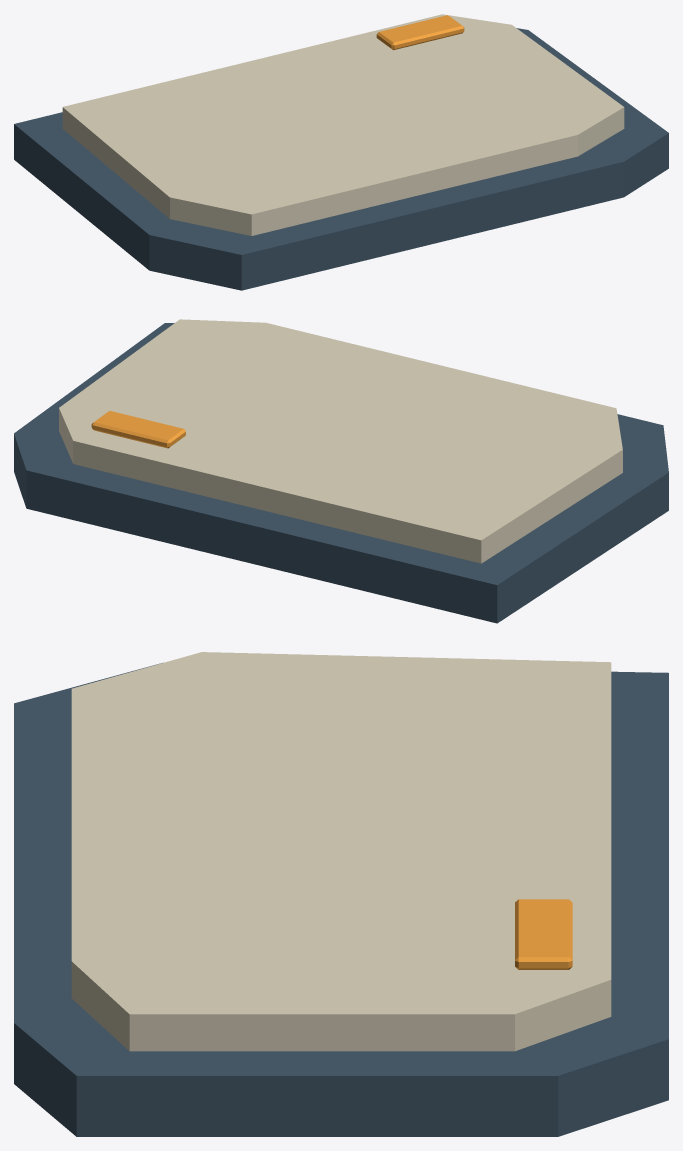
File: survey-panel-debris.glb
The picture shows the model from 3 angles, top to bottom: view 1: azimuth 30°, elevation 25°; view 2: azimuth 150°, elevation 25°; view 3: azimuth 270°, elevation 25°; orthographic projection. The views are drawn at different scales.
Parts seen in each view (by area): view 1: survey-panel-debris; view 2: survey-panel-debris; view 3: survey-panel-debris.
Boxes of the visible parts, left/top/right/bottom form: survey-panel-debris: left=14, top=14, right=668, bottom=290; survey-panel-debris: left=14, top=319, right=668, bottom=623; survey-panel-debris: left=14, top=652, right=668, bottom=1136.
Bounding box in the file's own units: 2.03 × 0.264 × 1.36.
Materials: 1 (1 with a texture image).
